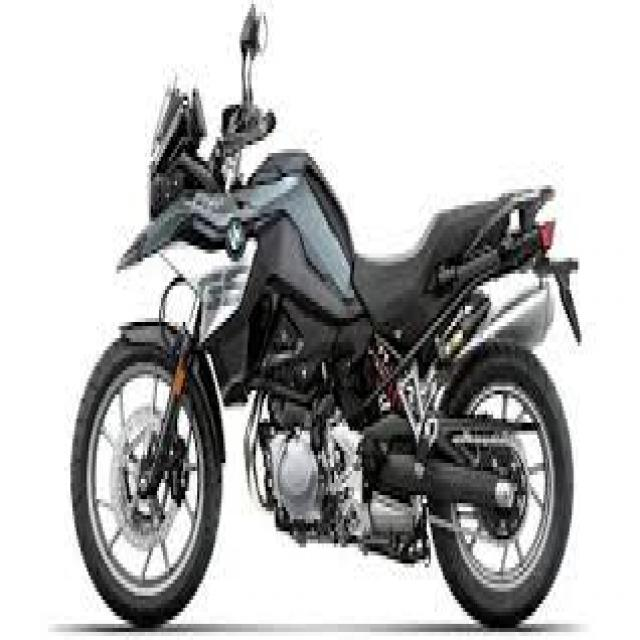Bike: (69, 0, 582, 630)
